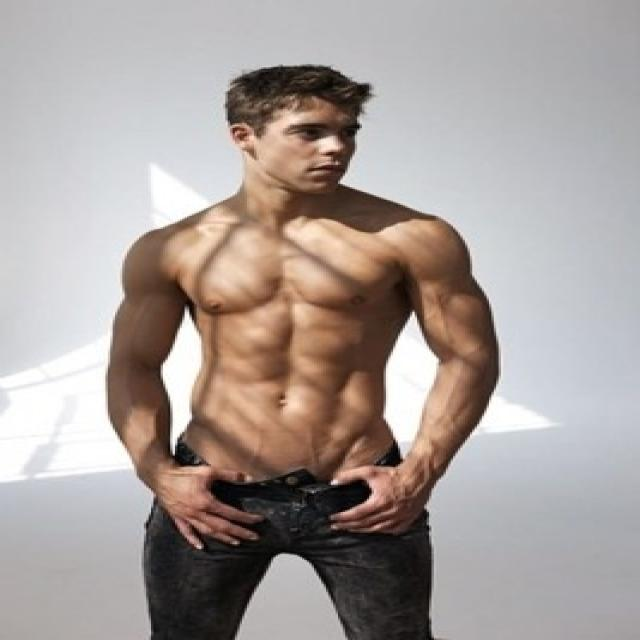front: (266, 122, 360, 180)
